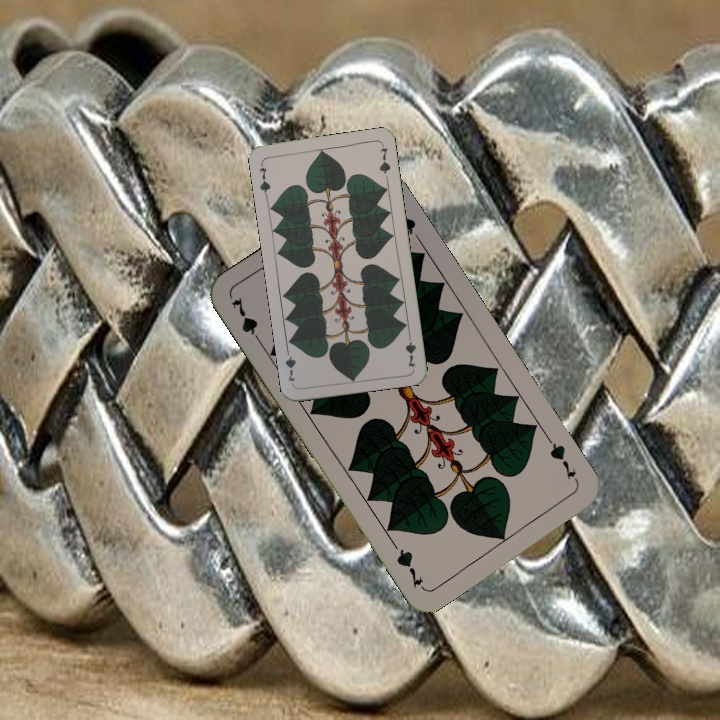G7: (227, 293, 266, 348), (544, 435, 582, 488), (255, 159, 273, 199), (401, 329, 418, 369)
